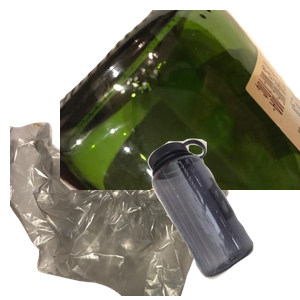cardboard: (77, 79, 251, 227)
glass: (60, 10, 300, 190)
plastic: (145, 136, 300, 300)
trash: (10, 120, 231, 300)
